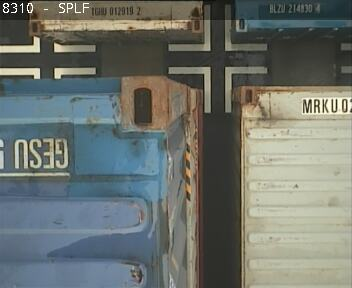groundmarker_1: (168, 6, 266, 51), (168, 66, 265, 111), (1, 36, 97, 53), (1, 67, 97, 78)
